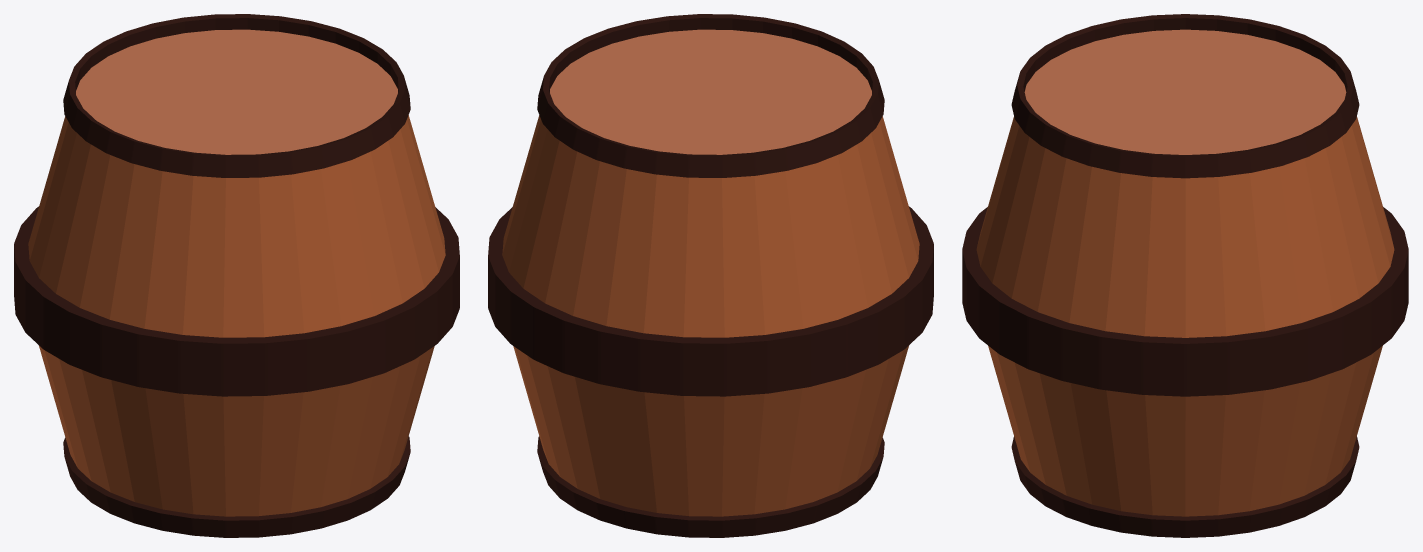
Rendered from taru.fbx.
The picture shows the model from 3 angles, left to right: view 1: azimuth 30°, elevation 25°; view 2: azimuth 150°, elevation 25°; view 3: azimuth 270°, elevation 25°; orthographic projection.
Visible parts, largest first — view 1: Cylinder; view 2: Cylinder; view 3: Cylinder.
Part boxes in pixels (x1,y1,x2,y2): Cylinder: (14, 14, 459, 537); Cylinder: (488, 14, 933, 537); Cylinder: (962, 14, 1408, 537).
Size of the model in its own units: 214 by 202 by 214.
